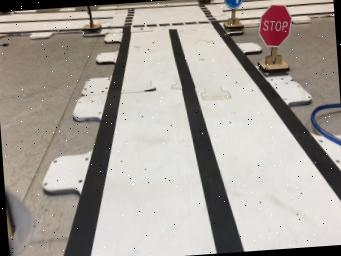left: (223, 0, 243, 29), (223, 0, 243, 29), (223, 0, 243, 29)
stop: (257, 4, 291, 74), (257, 4, 291, 74), (257, 4, 291, 74)
street: (63, 2, 341, 256), (63, 2, 341, 256), (63, 2, 341, 256), (0, 11, 88, 34), (0, 11, 88, 34), (0, 11, 88, 34), (238, 0, 333, 18), (238, 0, 333, 18), (238, 0, 333, 18)
